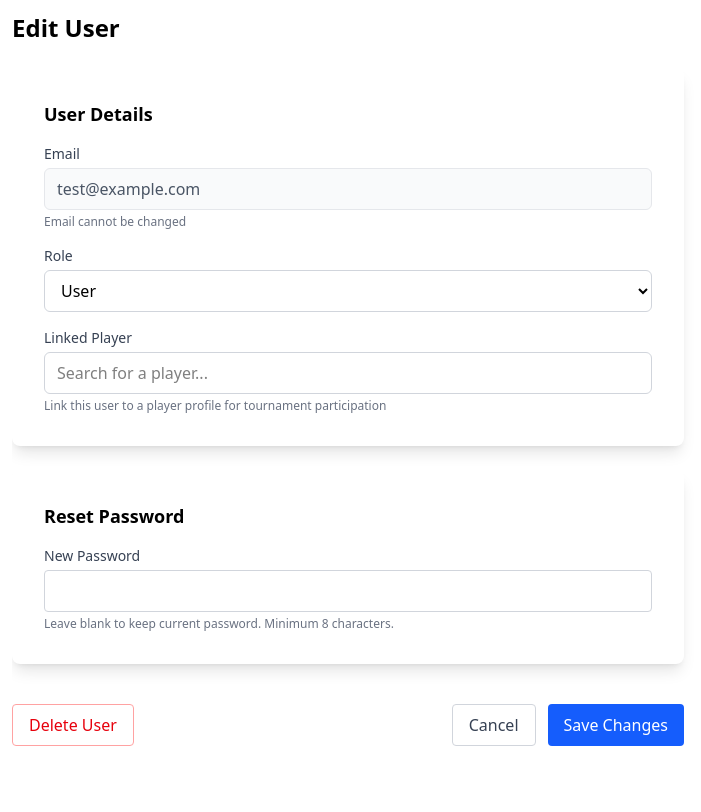
Test: AdminUserEditPage › Form Submission › displays error message on save failure
Click the button "Save Changes": point(616, 725) left=548, top=704, right=684, bottom=746
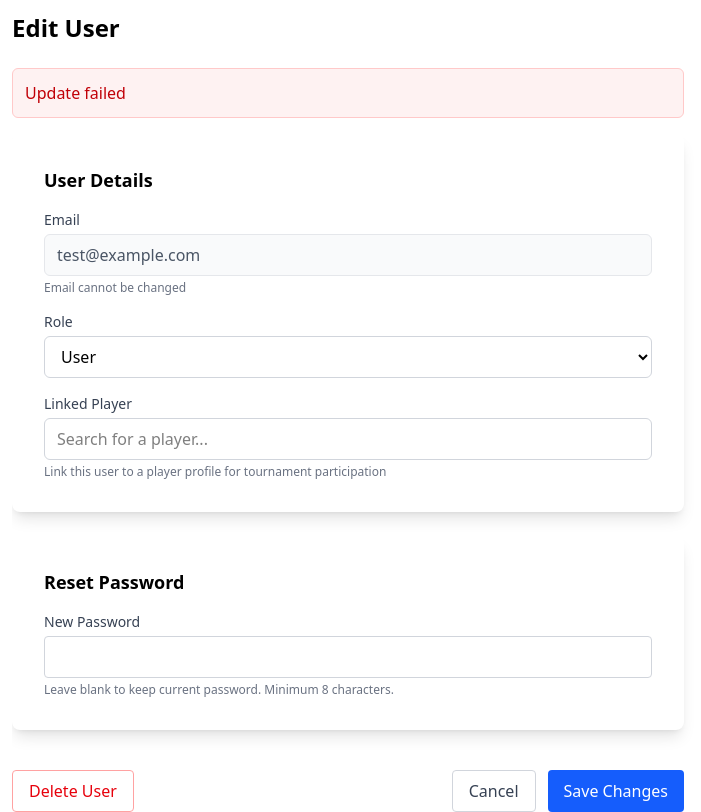
Result: the text "Update failed" is shown at left=12, top=68, right=684, bottom=118
